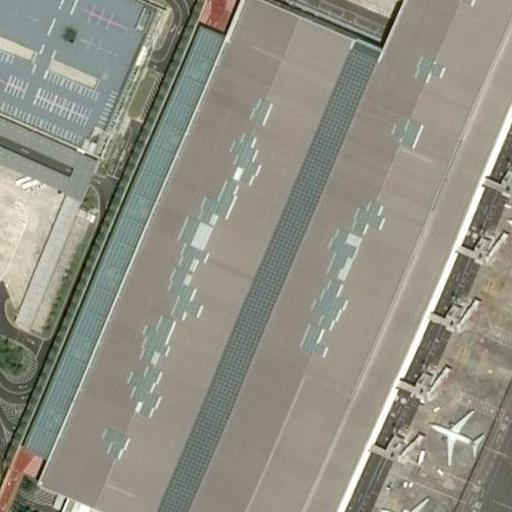Aircraft: (426, 407, 486, 465), (428, 407, 484, 468), (377, 495, 445, 512), (375, 499, 440, 512), (505, 203, 512, 263), (506, 204, 512, 263)
